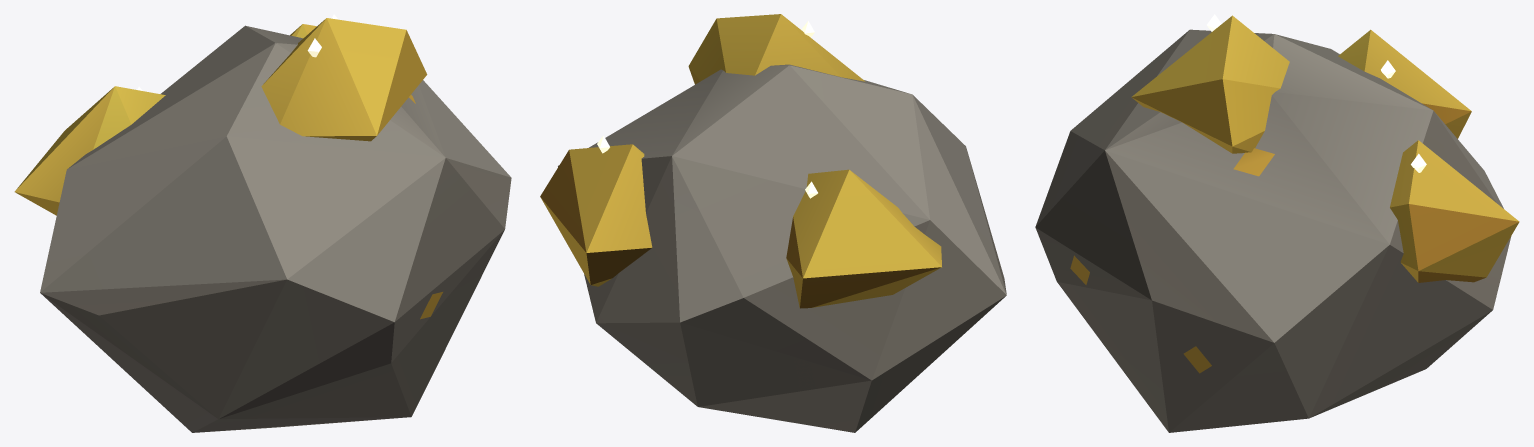
The model's file is ore_gold.glb.
3 views of the same model, side by side, from view 1: azimuth 30°, elevation 25°; view 2: azimuth 150°, elevation 25°; view 3: azimuth 270°, elevation 25° (orthographic). The views are drawn at different scales.
Bounding box in the file's own units: 0.26 × 0.22 × 0.23.
